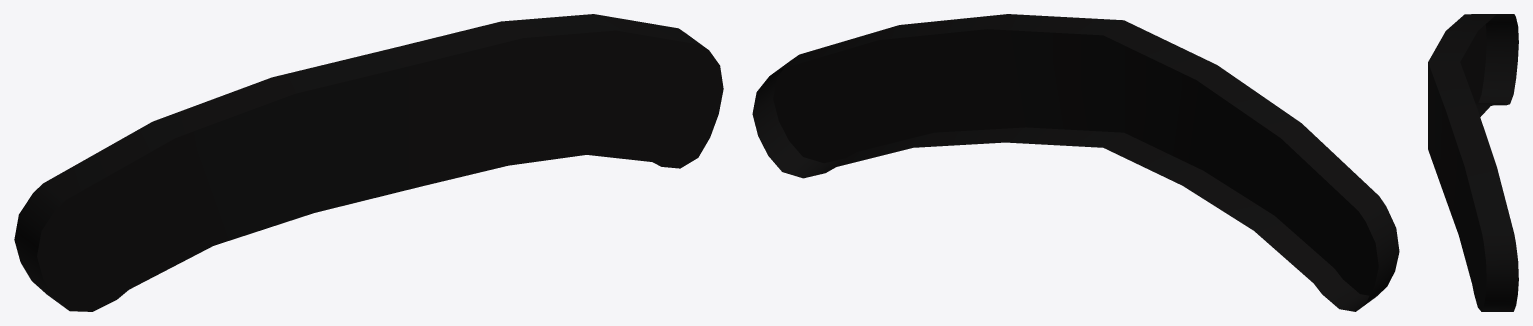
File: Mouth_D_Sad_01.fbx
3 renders of one model, left to right at view 1: azimuth 30°, elevation 25°; view 2: azimuth 150°, elevation 25°; view 3: azimuth 270°, elevation 25°, orthographic. The views are drawn at different scales.
Parts seen in each view (by area): view 1: Mouth_D_Sad_01; view 2: Mouth_D_Sad_01; view 3: Mouth_D_Sad_01.
Boxes of the visible parts, x1,y1,x2,y2 form: Mouth_D_Sad_01: (14, 14, 723, 311); Mouth_D_Sad_01: (752, 14, 1399, 311); Mouth_D_Sad_01: (1428, 14, 1518, 311).
Bounding box in the file's own units: 40.96 × 11.56 × 6.62.
